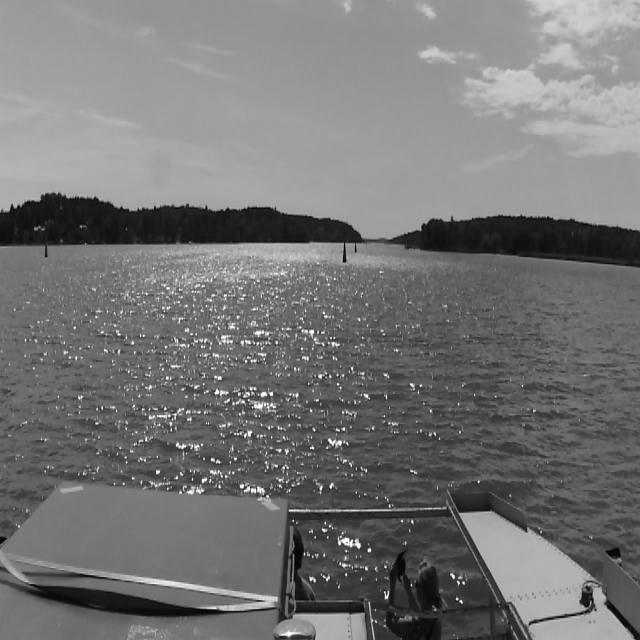buoy: (343, 243, 347, 262), (355, 242, 357, 252)
